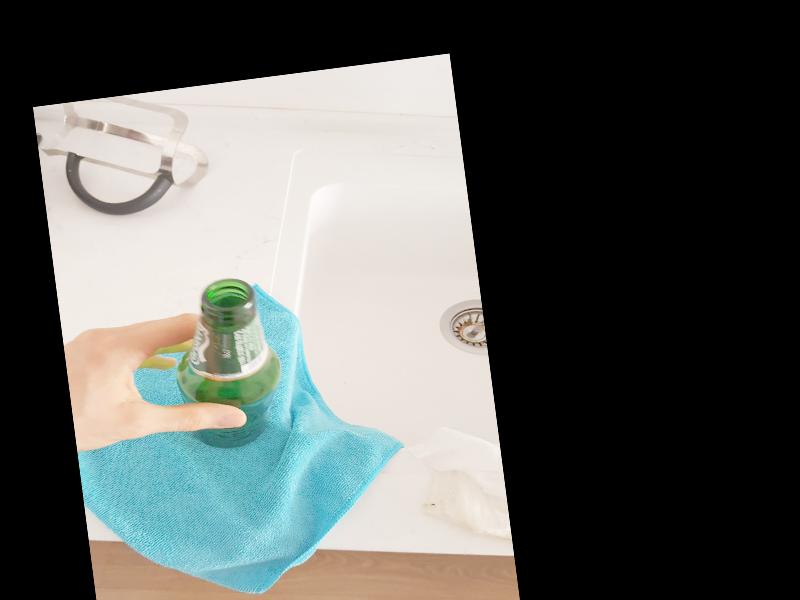Beer: (173, 276, 288, 454)
